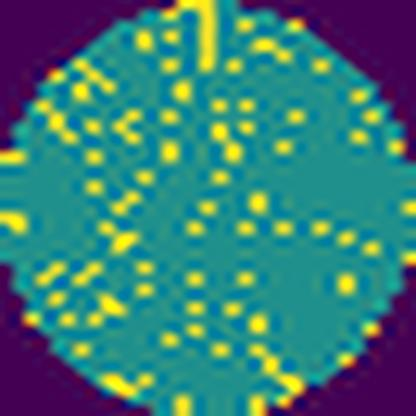Scratch: (160, 0, 225, 80)
